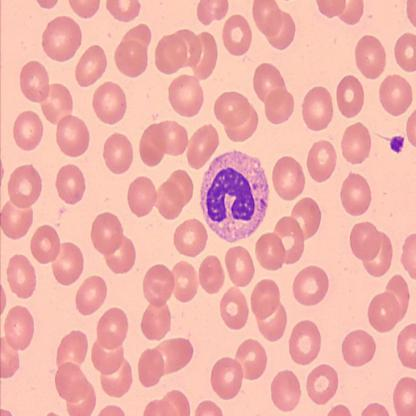Band Neutrophil: (197, 146, 272, 246)
